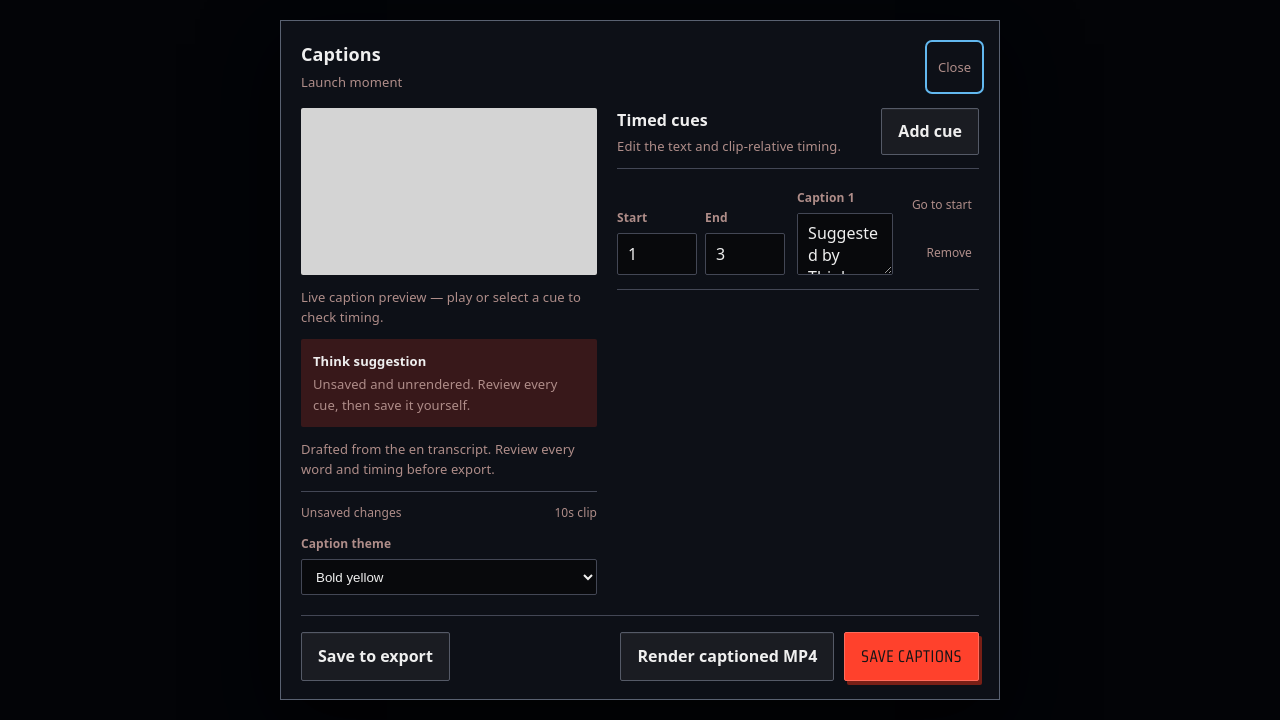
Test: CaptionEditorModal › keeps an advisory Think proposal unsaved until the user saves it
Check: the text "Think suggestion" is shown, box [313, 352, 426, 370]
Check: the dropdown labelled "Caption theme" shows "Bold yellow", box [301, 559, 597, 595]
Replace the text in the text box named "Cue 1 text" with "Human correction": (845, 244) [797, 213, 893, 275]
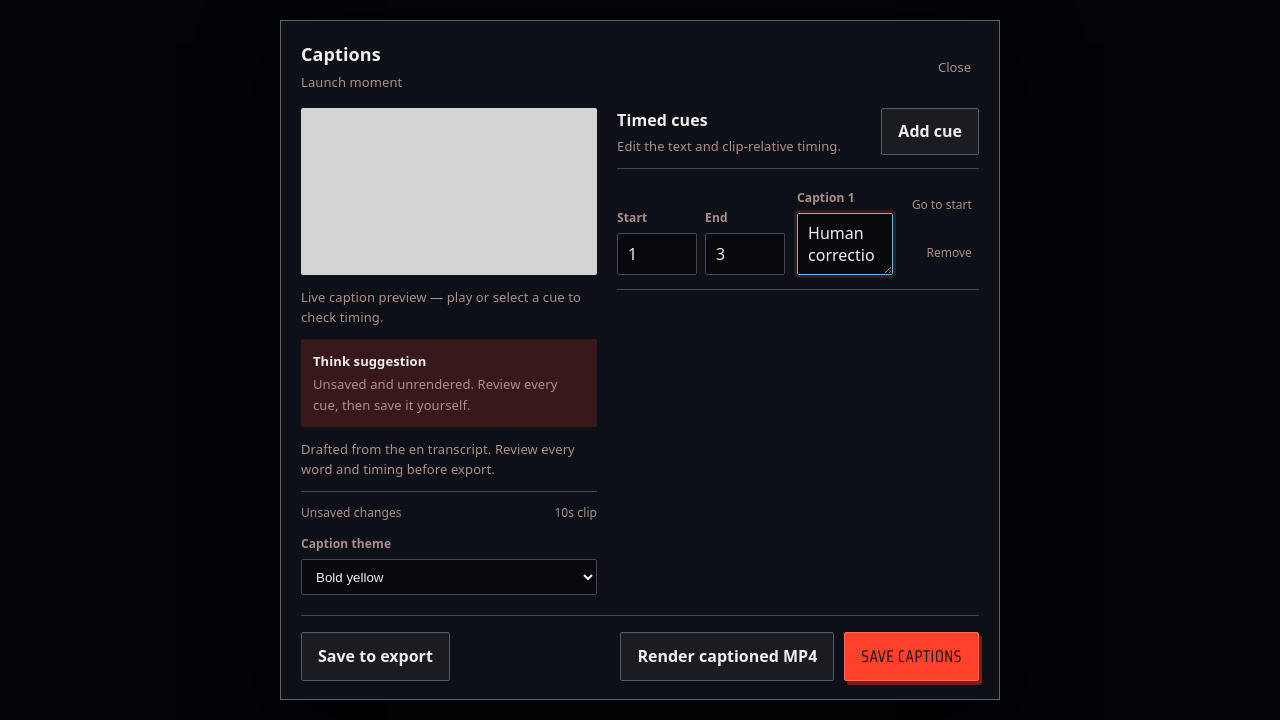
Click the button "Save captions": (912, 656) [844, 632, 979, 681]
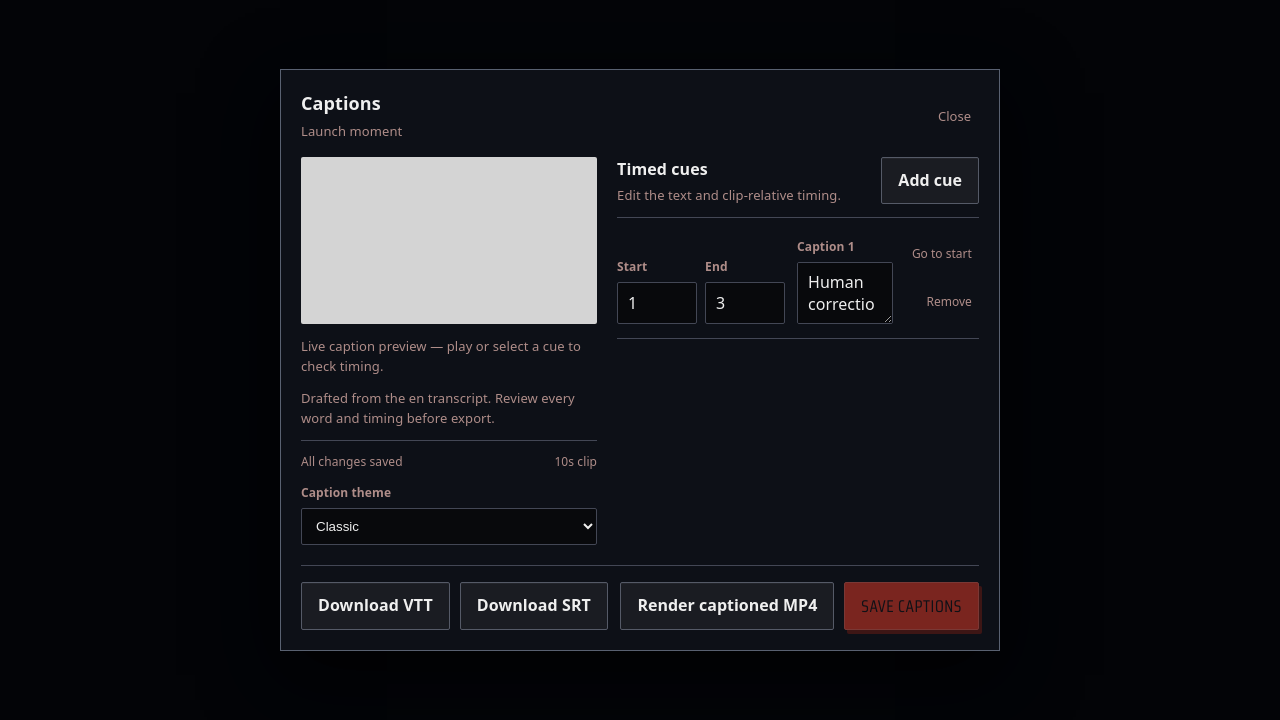
Check: the text "All changes saved" is shown, box [301, 453, 403, 472]
Check: the button "Render captioned MP4" is enabled, box [620, 582, 834, 630]
